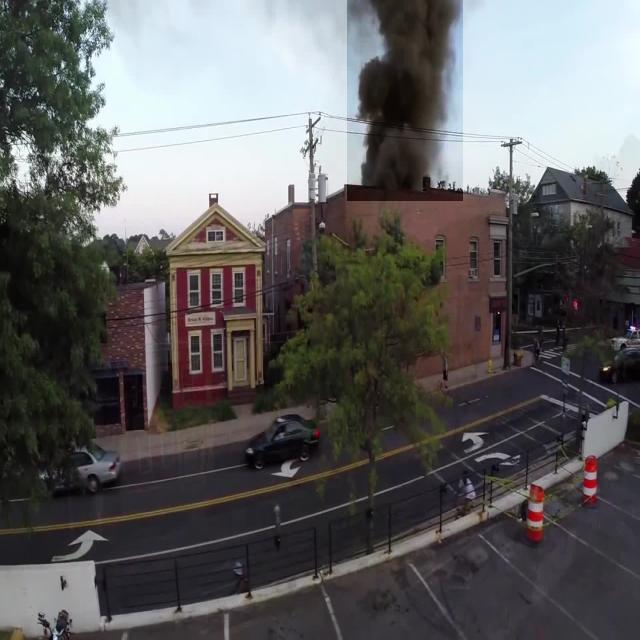Smoke: (347, 0, 463, 201)
